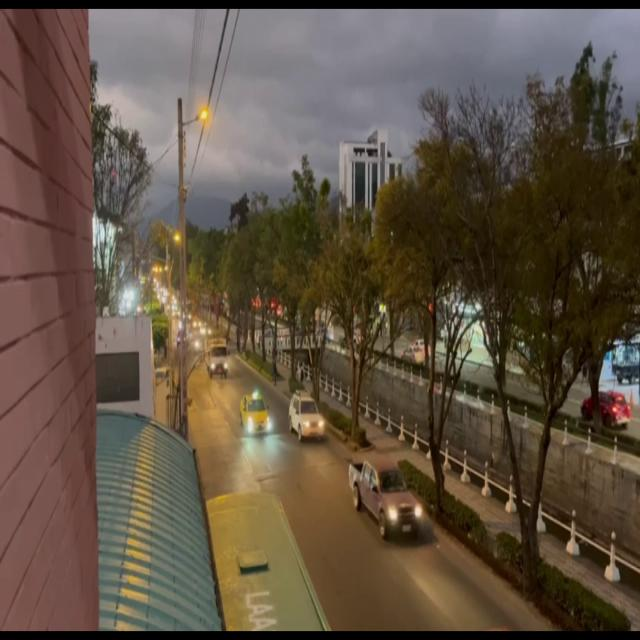CMT: (347, 462, 419, 534)
SED: (240, 398, 270, 434)
SUV: (292, 395, 325, 440)
TRUCK: (208, 338, 228, 379)
